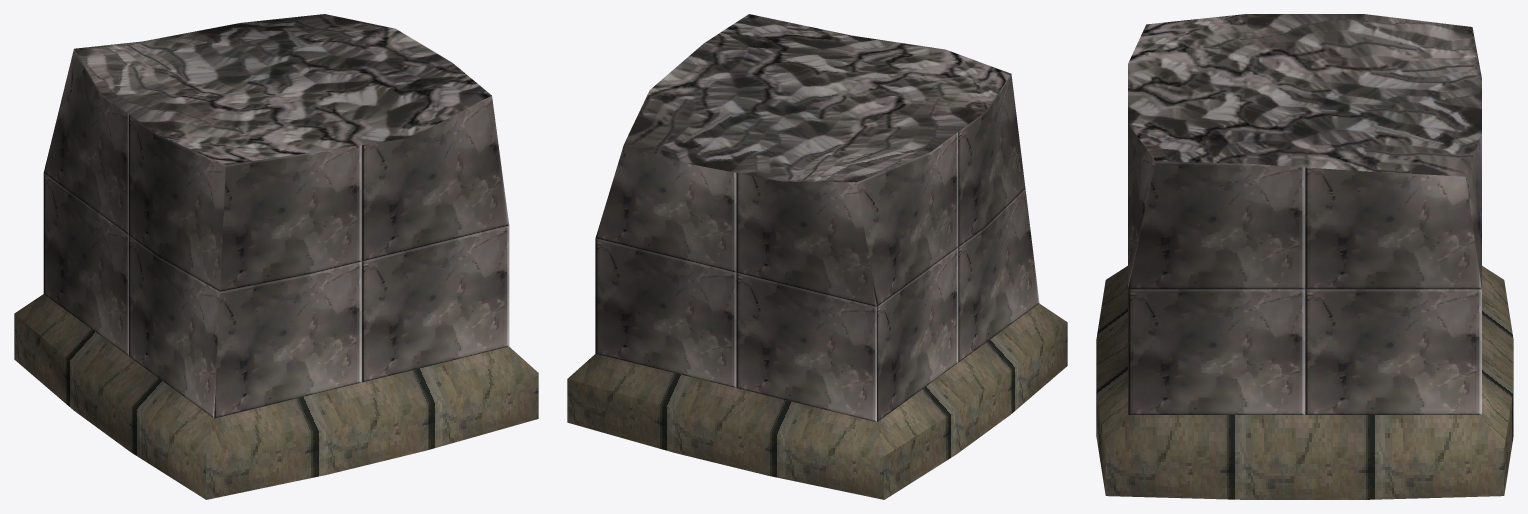
File: INST_SM_DEBRIS_BLOCK_SMALLA.fbx
The picture shows the model from 3 angles, left to right: view 1: azimuth 30°, elevation 25°; view 2: azimuth 150°, elevation 25°; view 3: azimuth 270°, elevation 25°; orthographic projection. The views are drawn at different scales.
Parts seen in each view (by area): view 1: INST_SM_DEBRIS_BLOCK_SMALLA; view 2: INST_SM_DEBRIS_BLOCK_SMALLA; view 3: INST_SM_DEBRIS_BLOCK_SMALLA.
Boxes of the visible parts, x1,y1,x2,y2 form: INST_SM_DEBRIS_BLOCK_SMALLA: (14, 14, 538, 499); INST_SM_DEBRIS_BLOCK_SMALLA: (567, 14, 1067, 499); INST_SM_DEBRIS_BLOCK_SMALLA: (1096, 14, 1513, 499).
Bounding box in the file's own units: 23571 × 20146 × 23570.
3 materials, 3 textured.
